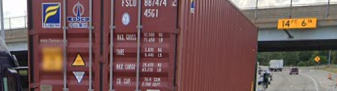1: (280, 19, 285, 28)
4: (284, 19, 290, 27)
6: (299, 18, 307, 27)
overheadsign: (277, 18, 317, 29)
